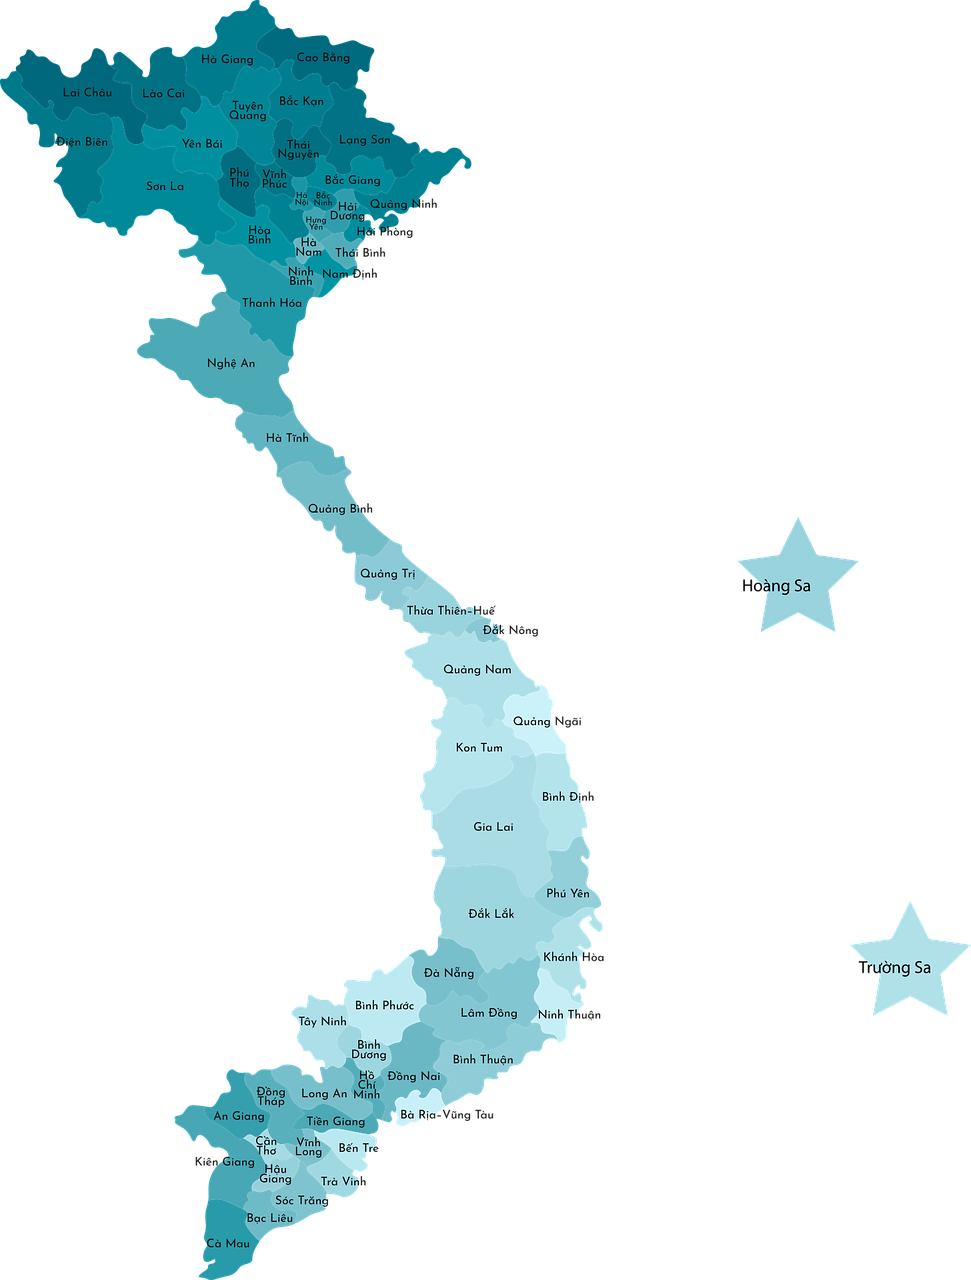Island: (849, 908, 967, 1029), (742, 515, 859, 635)
